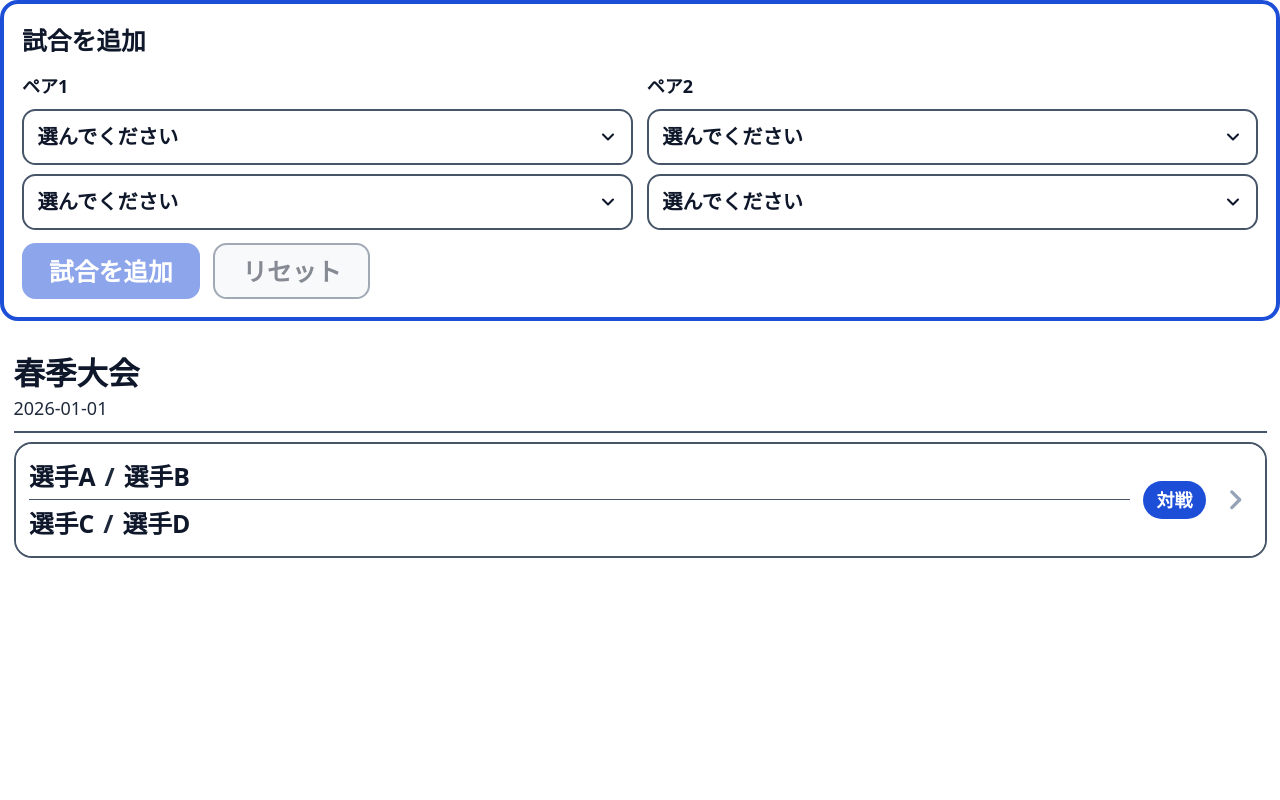
Test: DoublesList › MatchModal を閉じると非表示になる
Click the button "選手A /選手B 選手C /選手D 対戦": (62, 476) [16, 444, 1264, 556]
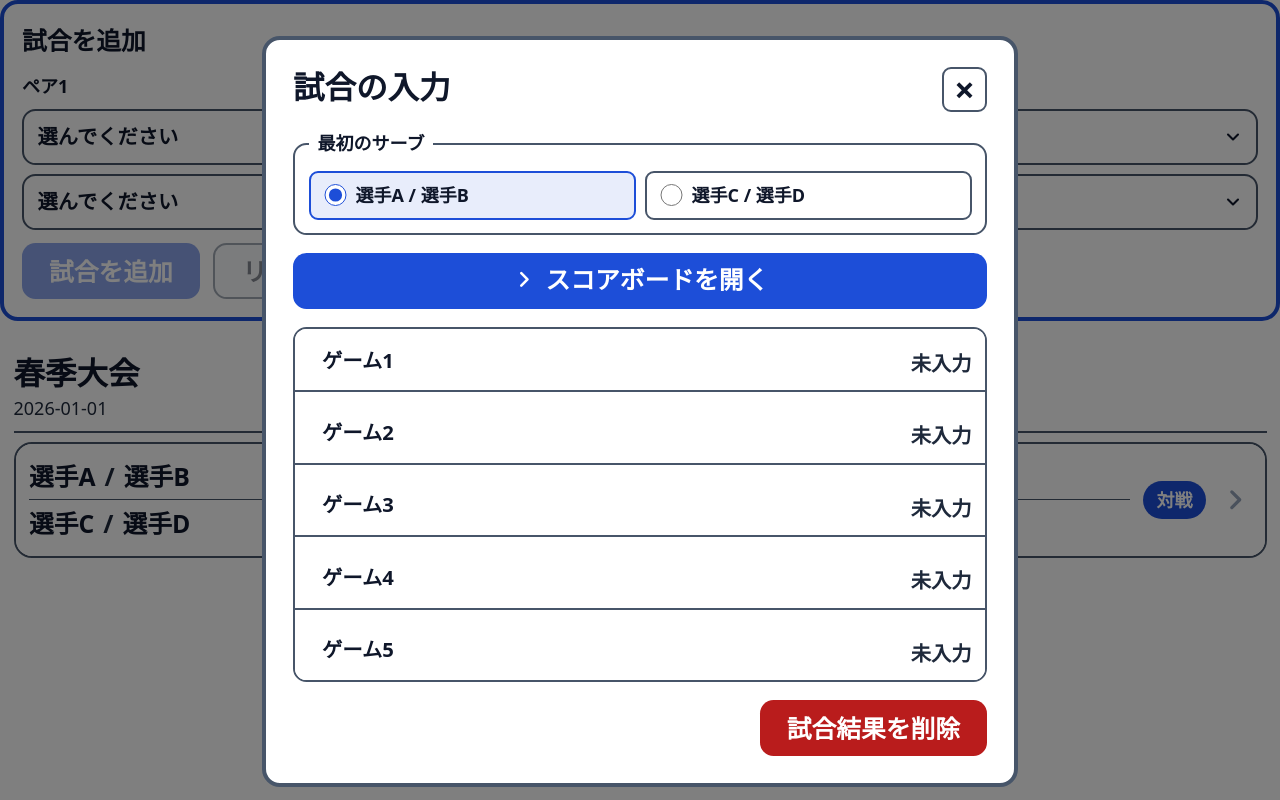
Expected: the dialog is shown, [262, 36, 1018, 787]
Expected: the button named "閉じる" is shown
Click the button named "閉じる": (964, 90) [942, 67, 987, 112]
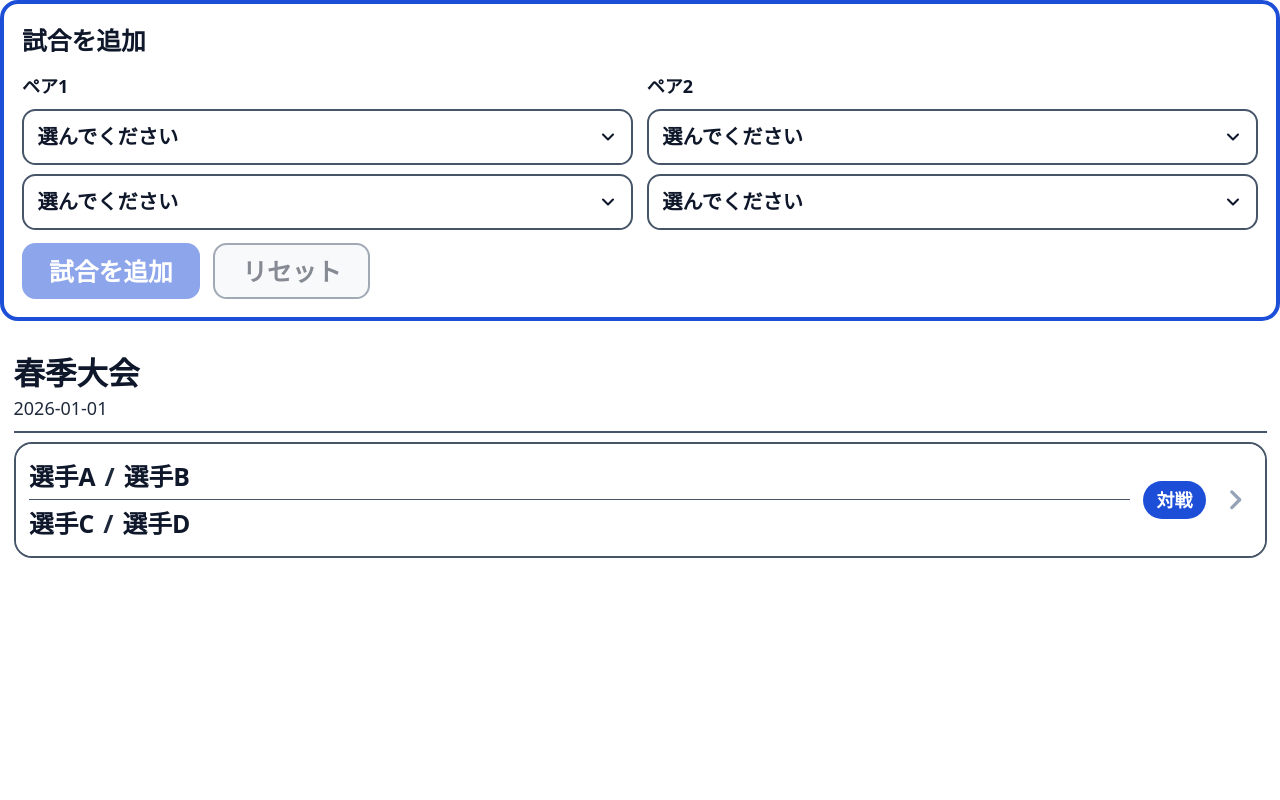
Expected: the dialog is gone
